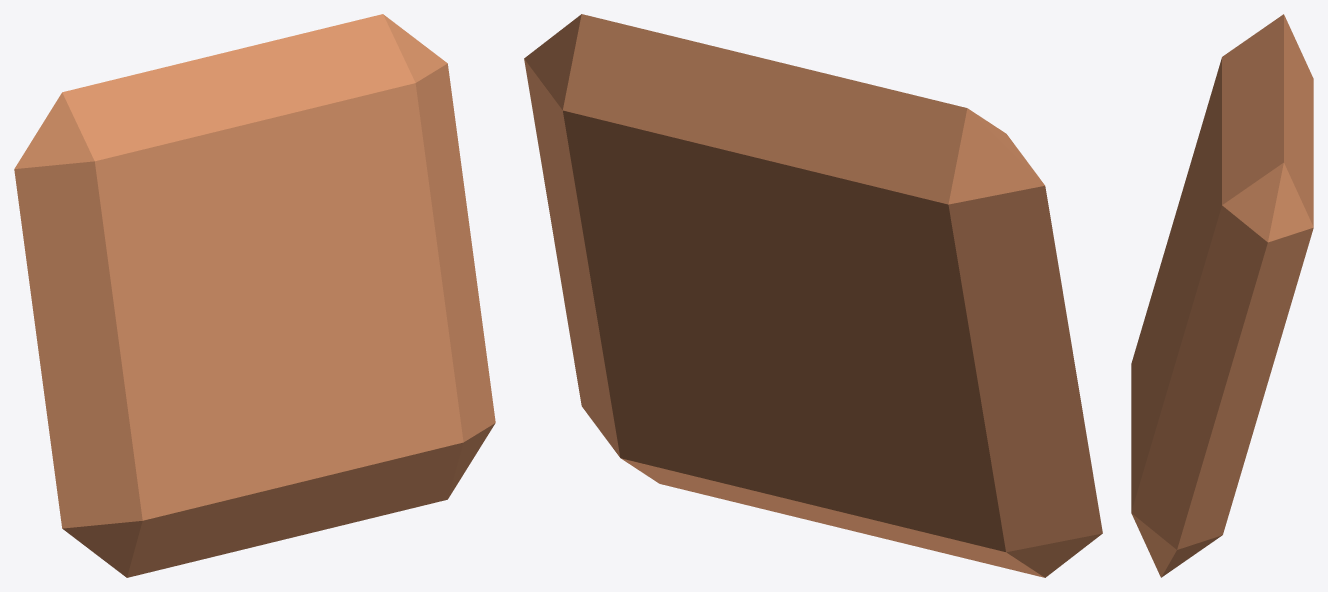
Rendered from pillow.glb.
3 views of the same model, side by side, from view 1: azimuth 30°, elevation 25°; view 2: azimuth 150°, elevation 25°; view 3: azimuth 270°, elevation 25° (orthographic). The views are drawn at different scales.
Visible parts, largest first — view 1: pillow(Clone); view 2: pillow(Clone); view 3: pillow(Clone).
Part boxes in pixels (x1,y1,x2,y2): pillow(Clone): (14,14,495,577); pillow(Clone): (524,14,1102,577); pillow(Clone): (1131,14,1313,577).
Bounding box in the file's own units: 0.23 × 0.2222 × 0.0885.
